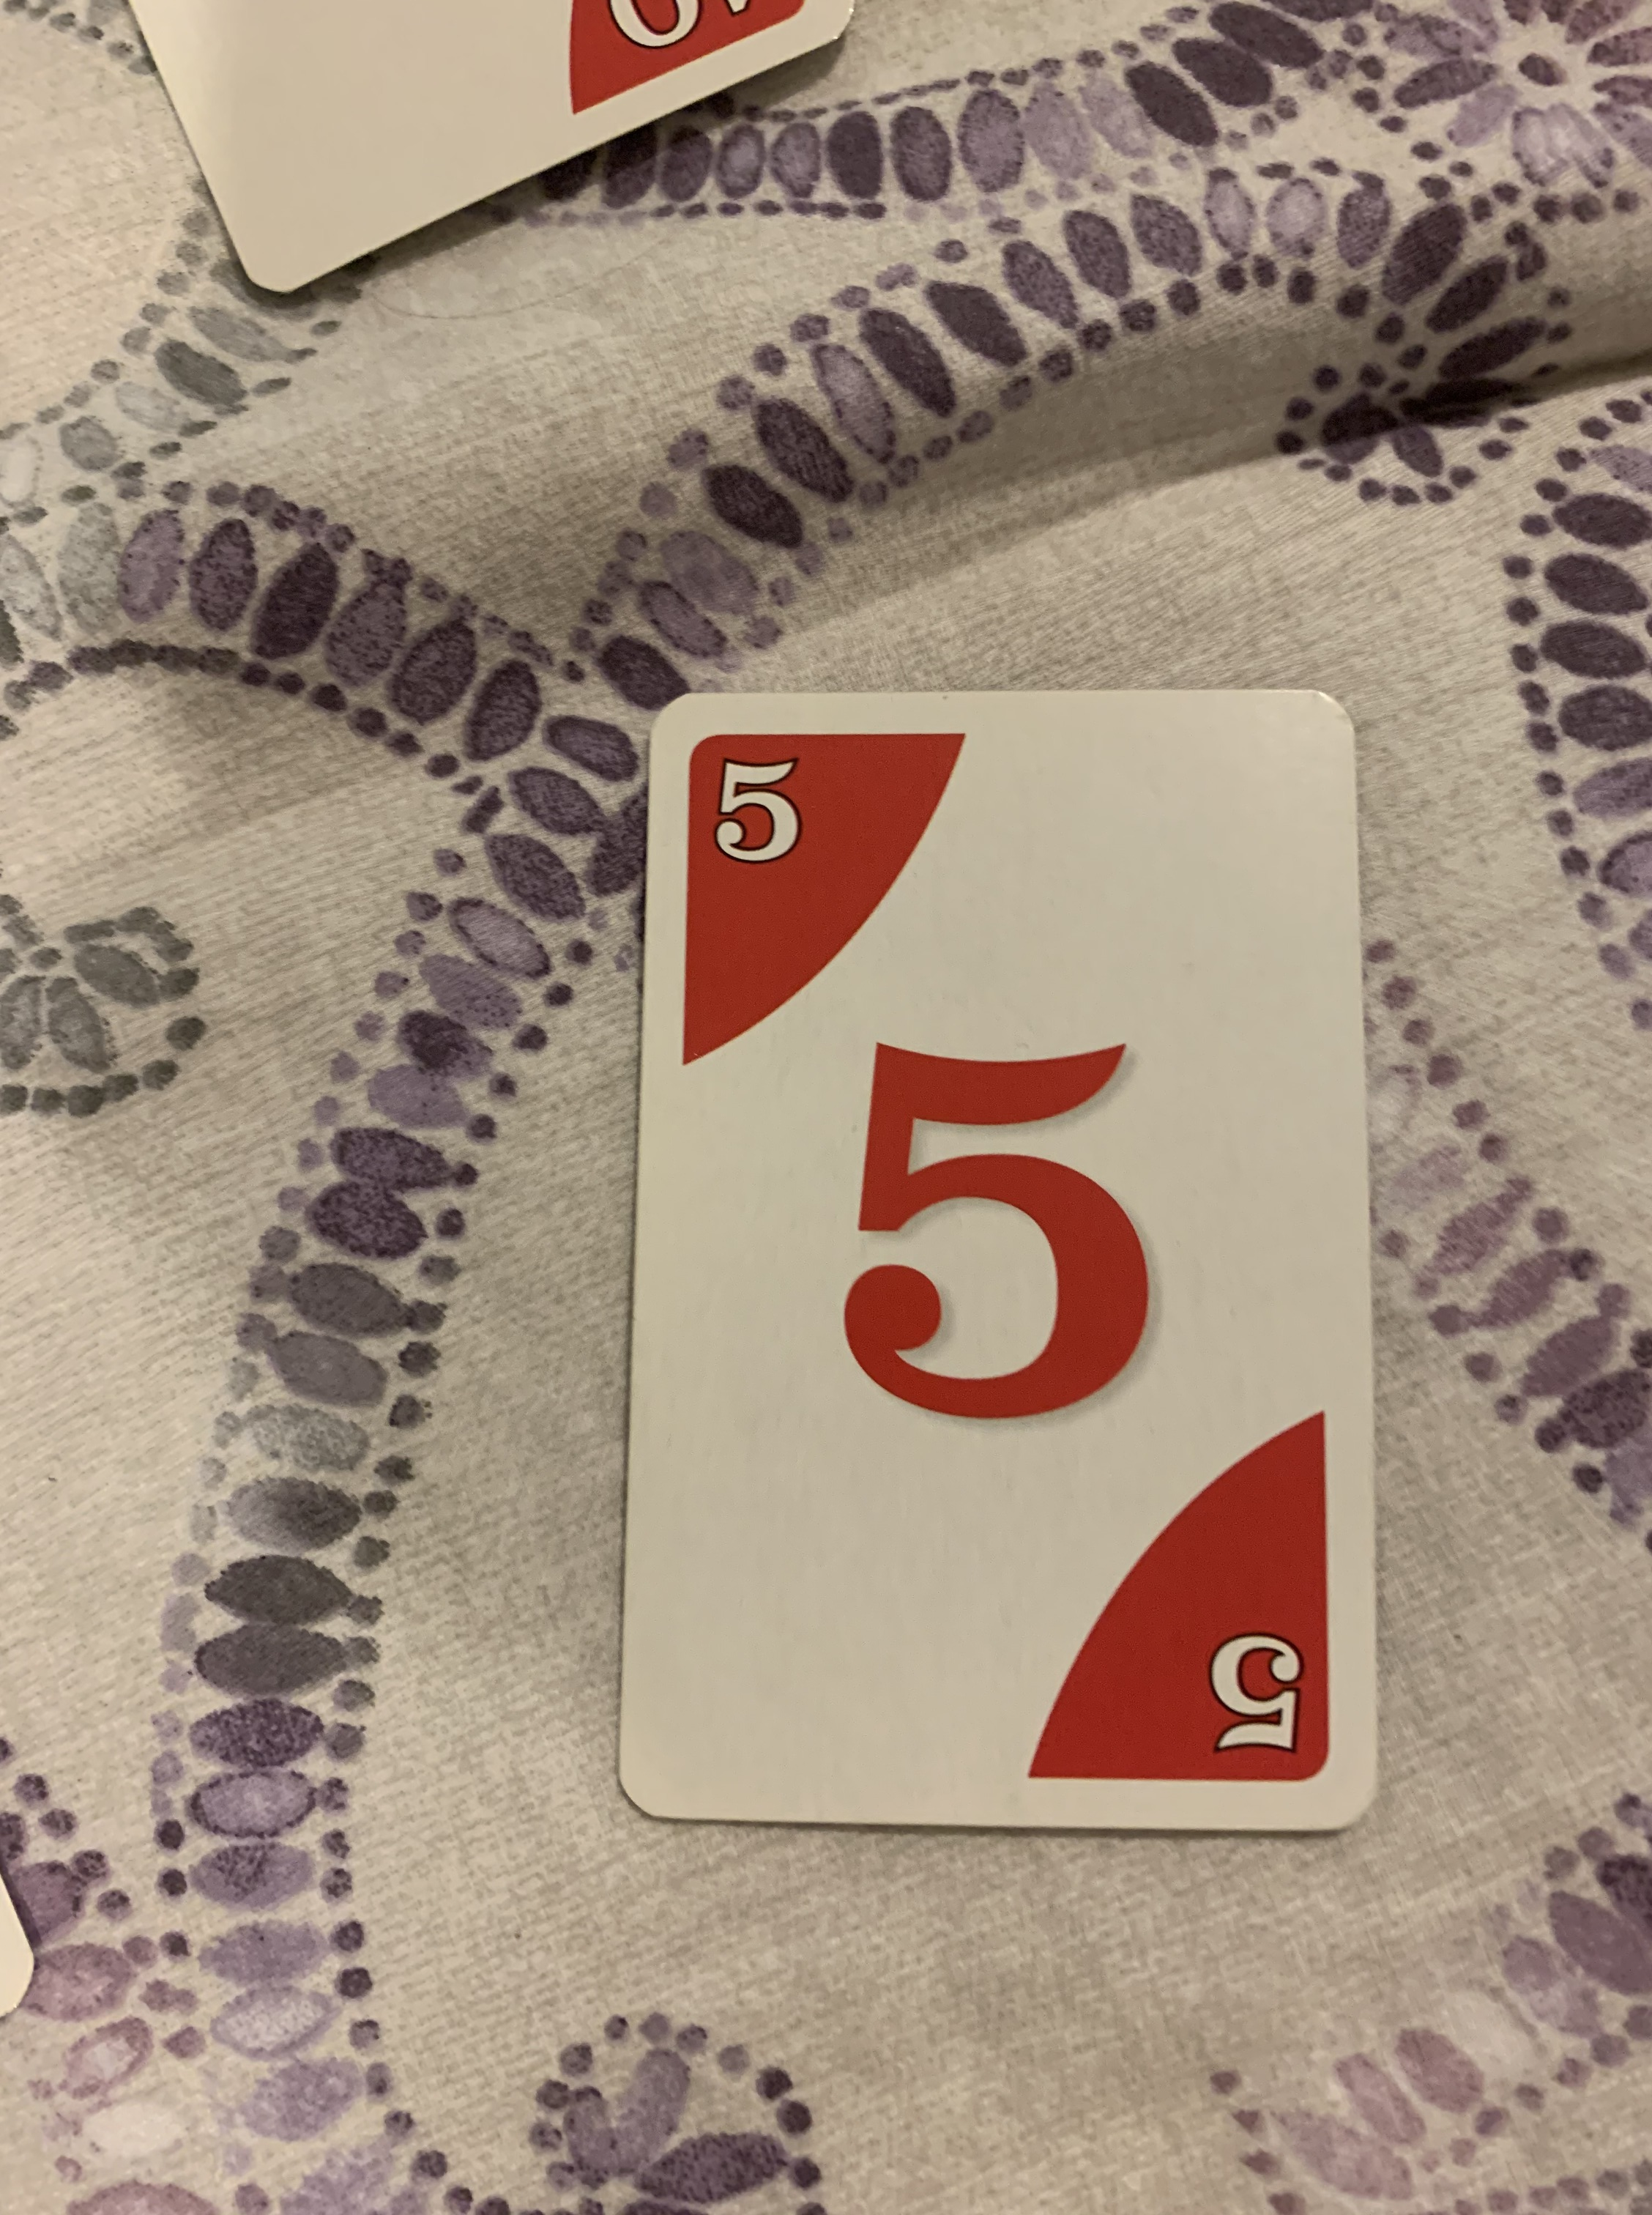five: (616, 680, 1390, 1845)
